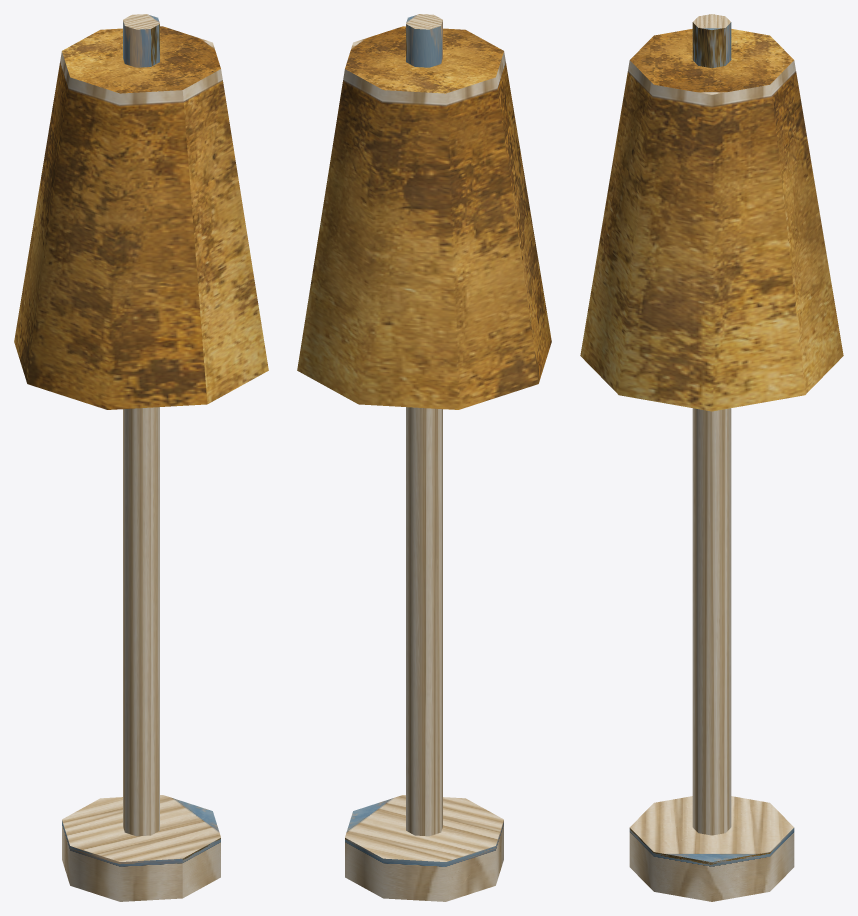
File: floor-lamp.gltf
3 views of the same model, side by side, from view 1: azimuth 30°, elevation 25°; view 2: azimuth 150°, elevation 25°; view 3: azimuth 270°, elevation 25° (orthographic).
Visible parts, largest first — view 1: kit:0:furniture:drapery:, kit:0:furniture:gold:; view 2: kit:0:furniture:drapery:, kit:0:furniture:gold:; view 3: kit:0:furniture:drapery:, kit:0:furniture:gold:.
Boxes of the visible parts, x1,y1,x2,y2 form: kit:0:furniture:drapery:: (14,26,268,409); kit:0:furniture:gold:: (62,14,220,901); kit:0:furniture:drapery:: (297,26,551,409); kit:0:furniture:gold:: (345,14,503,901); kit:0:furniture:drapery:: (580,29,843,411); kit:0:furniture:gold:: (629,14,794,901).
Bounding box in the file's own units: 0.48 × 1.7 × 0.48.
2 materials, 2 textured.
